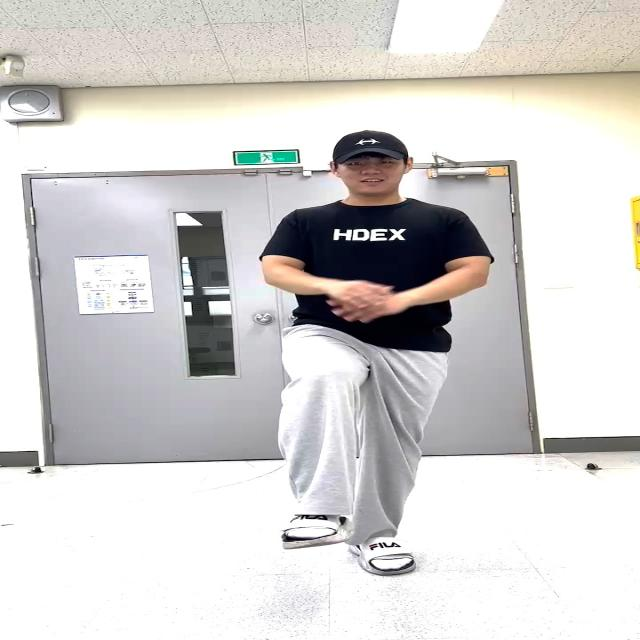leg: (288, 334, 357, 545)
